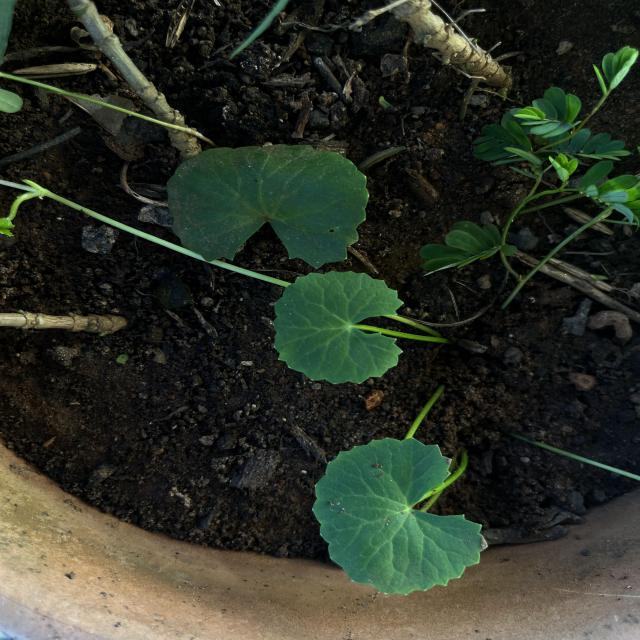Centella asiatica: (309, 433, 491, 598), (162, 142, 372, 270), (270, 268, 408, 387)
